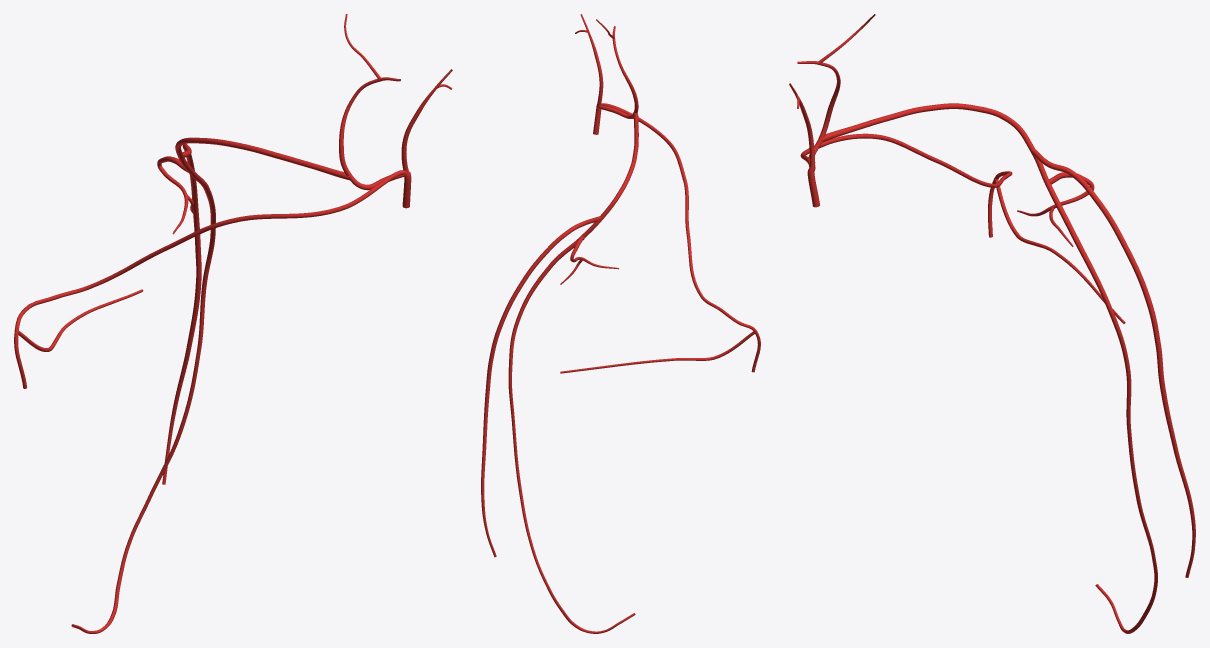
The model's file is circulatorio-thyrocervical-trunk-r.glb.
3 renders of one model, left to right at view 1: azimuth 30°, elevation 25°; view 2: azimuth 150°, elevation 25°; view 3: azimuth 270°, elevation 25°, orthographic. The views are drawn at different scales.
Parts seen in each view (by area): view 1: (Deep branch of transverse cervical artery).r, Suprascapular artery.r, (Superficial branch of transverse cervical artery).r, Transverse cervical artery.r; view 2: (Deep branch of transverse cervical artery).r, Suprascapular artery.r, (Superficial branch of transverse cervical artery).r, Transverse cervical artery.r; view 3: (Deep branch of transverse cervical artery).r, (Superficial branch of transverse cervical artery).r, Suprascapular artery.r, Transverse cervical artery.r.
Boxes of the visible parts, <box> form: (Deep branch of transverse cervical artery).r: <box>71,137,349,633</box>; Suprascapular artery.r: <box>14,170,407,388</box>; (Superficial branch of transverse cervical artery).r: <box>162,144,201,484</box>; Transverse cervical artery.r: <box>339,14,405,190</box>; (Deep branch of transverse cervical artery).r: <box>508,112,638,633</box>; Suprascapular artery.r: <box>560,103,760,373</box>; (Superficial branch of transverse cervical artery).r: <box>481,216,601,557</box>; Transverse cervical artery.r: <box>596,19,638,118</box>; (Deep branch of transverse cervical artery).r: <box>822,103,1157,633</box>; (Superficial branch of transverse cervical artery).r: <box>1031,149,1195,577</box>; Suprascapular artery.r: <box>800,133,1125,323</box>; Transverse cervical artery.r: <box>797,14,875,171</box>.
Size of the model in its own units: 0.1152 by 0.2204 by 0.1203.
